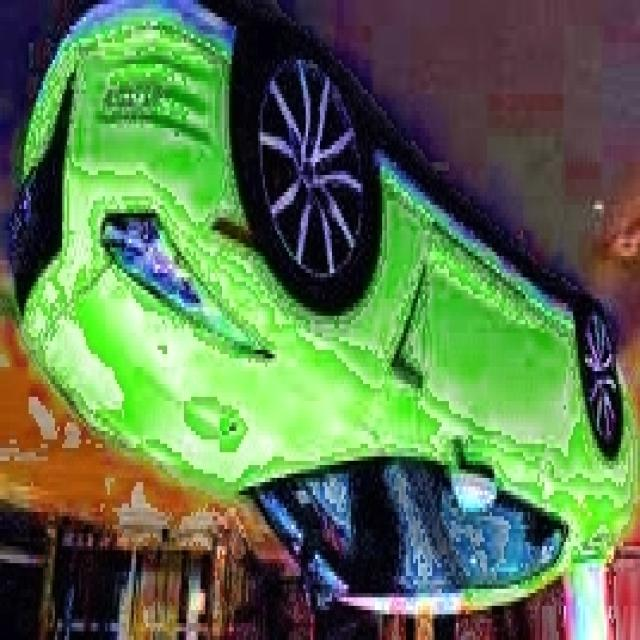green: (20, 0, 627, 636)
